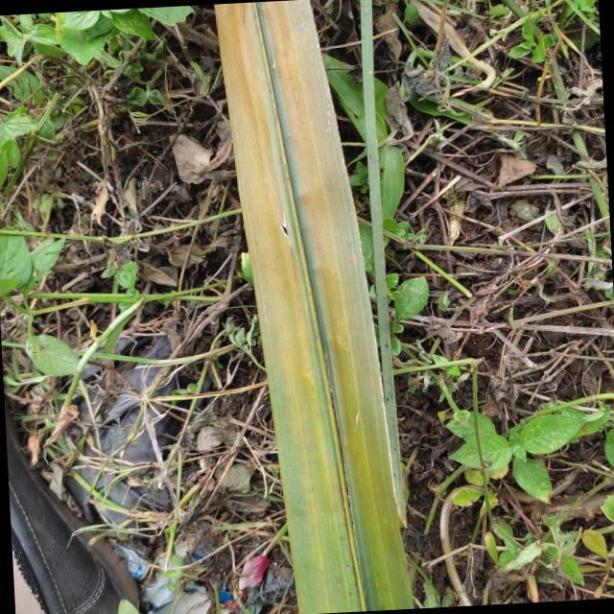Megnesium: (211, 0, 416, 614)
